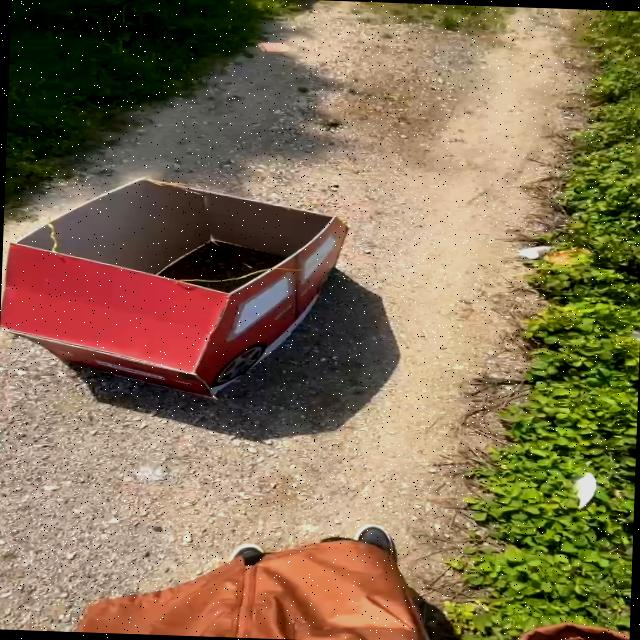red_car: (0, 159, 382, 412)
